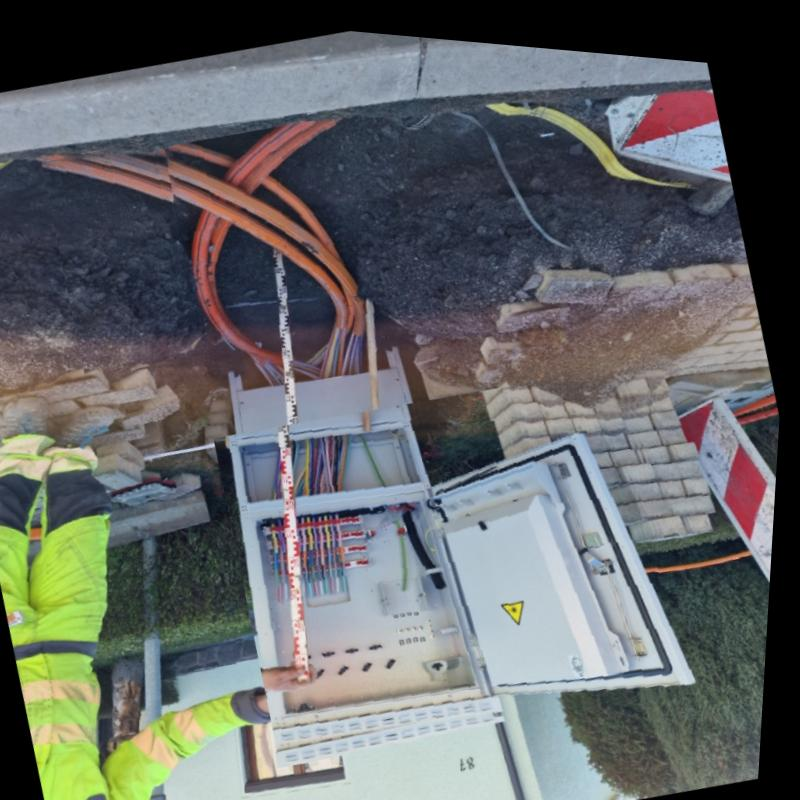NT-Gehause: (234, 396, 701, 742)
Orang-Speednetrohrchen: (89, 145, 369, 327), (43, 155, 348, 321), (197, 114, 337, 358), (167, 140, 345, 255)
